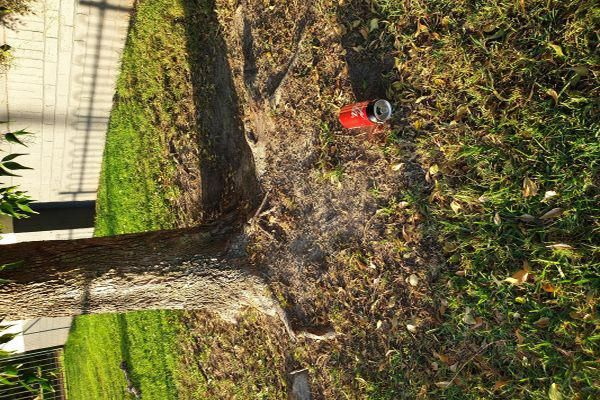Plastic Bottle: (337, 97, 393, 129)
